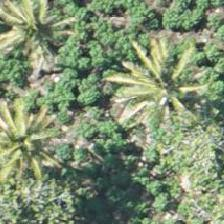Kelapa_Sawit: (118, 36, 208, 126), (0, 106, 68, 196), (0, 0, 81, 69)
